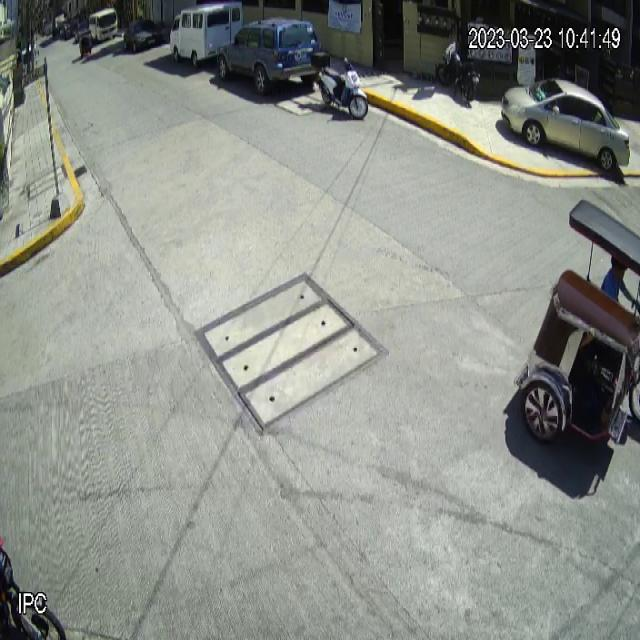Car: (501, 79, 631, 172), (233, 15, 321, 97)
Motorcycle: (312, 51, 368, 120)
Tricycle: (514, 198, 640, 446)
Van: (169, 0, 243, 67)
